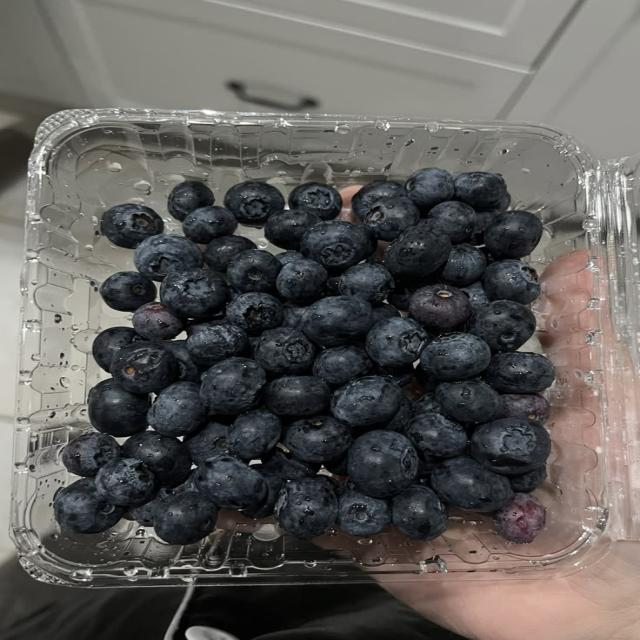blueberry: (348, 430, 417, 497), (431, 457, 513, 512), (471, 418, 550, 475), (301, 220, 376, 272), (195, 455, 267, 509), (122, 431, 191, 487), (54, 478, 124, 533), (274, 477, 337, 538), (200, 357, 266, 414), (300, 296, 372, 346), (332, 376, 402, 427), (385, 224, 451, 278), (111, 342, 179, 394), (88, 380, 150, 437), (467, 301, 535, 352), (160, 269, 229, 318), (420, 333, 491, 380), (154, 492, 217, 544), (148, 382, 207, 437), (134, 234, 202, 281), (284, 416, 352, 463), (366, 318, 429, 367), (409, 284, 473, 331), (392, 485, 446, 540), (484, 353, 555, 394), (95, 458, 156, 505), (254, 328, 315, 375), (100, 204, 164, 248), (436, 380, 501, 423), (187, 321, 248, 366), (485, 211, 542, 259), (405, 413, 467, 457), (227, 410, 281, 459), (494, 493, 546, 543), (265, 376, 330, 416), (224, 182, 284, 225), (482, 260, 539, 304), (62, 433, 120, 476), (337, 490, 390, 536), (364, 197, 419, 241), (314, 346, 372, 387), (227, 292, 282, 335), (404, 168, 454, 214), (227, 250, 281, 292), (265, 209, 320, 250), (339, 263, 394, 304), (93, 327, 143, 371), (276, 260, 327, 303), (100, 272, 156, 311), (182, 206, 238, 243), (427, 201, 476, 243), (440, 244, 486, 287), (352, 181, 404, 219), (454, 172, 506, 210), (289, 183, 342, 220), (203, 235, 256, 272), (184, 422, 229, 465), (133, 303, 183, 341), (243, 475, 285, 519), (260, 449, 319, 480), (168, 181, 213, 221), (129, 488, 169, 526), (501, 394, 550, 424), (165, 340, 199, 382), (468, 211, 498, 245), (509, 466, 546, 492), (387, 397, 413, 431), (461, 282, 489, 312), (375, 365, 415, 386), (415, 455, 441, 487), (412, 393, 442, 416), (389, 280, 412, 310), (281, 303, 306, 328), (414, 367, 438, 393), (373, 304, 400, 324), (324, 455, 347, 476), (275, 251, 305, 266), (496, 192, 511, 212), (325, 276, 339, 296)
